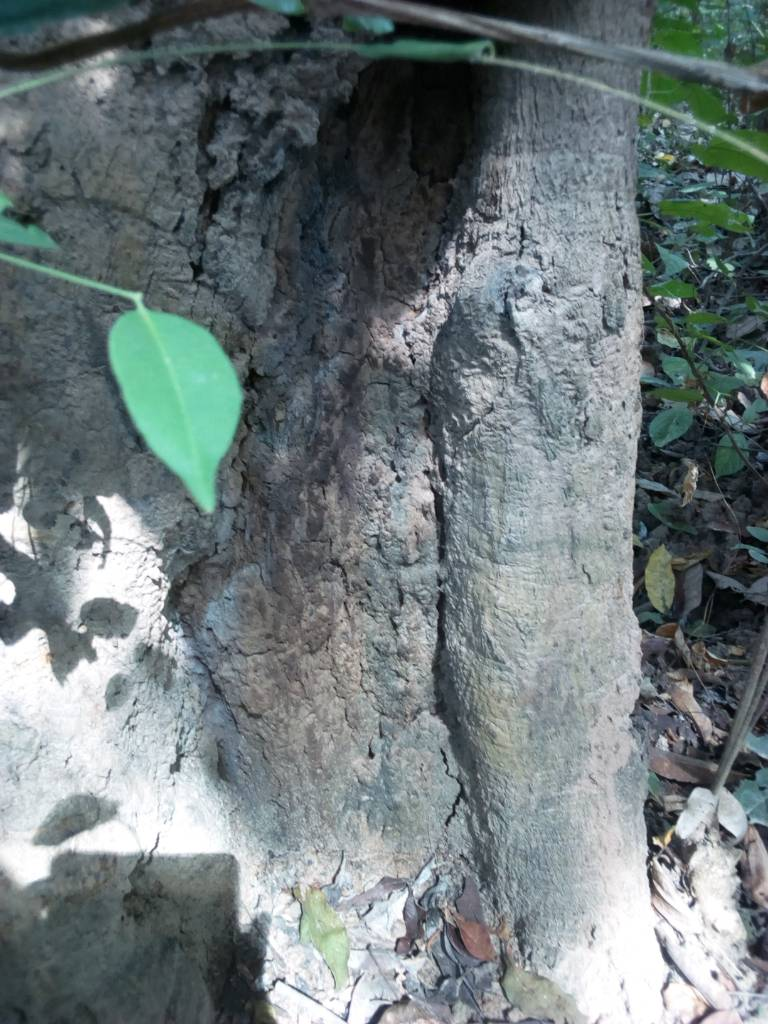Termites: (265, 146, 458, 875), (5, 399, 224, 992)
